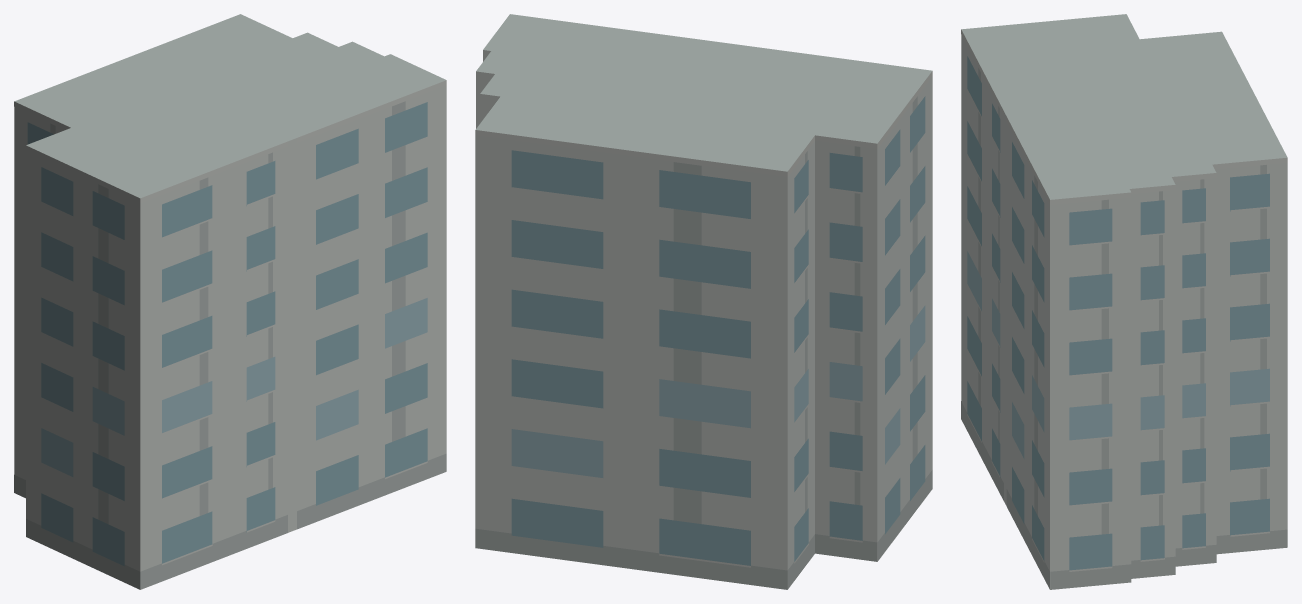
File: survey-upis-32985068.glb
3 renders of one model, left to right at view 1: azimuth 30°, elevation 25°; view 2: azimuth 150°, elevation 25°; view 3: azimuth 270°, elevation 25°, orthographic. The views are drawn at different scales.
Visible parts, largest first — view 1: survey-upis-32985068.tmp; view 2: survey-upis-32985068.tmp; view 3: survey-upis-32985068.tmp.
Part boxes in pixels (x1,y1,x2,y2): survey-upis-32985068.tmp: (14, 14, 446, 589); survey-upis-32985068.tmp: (475, 14, 932, 589); survey-upis-32985068.tmp: (961, 14, 1287, 589).
Bounding box in the file's own units: 18.72 × 18.3 × 13.89.
